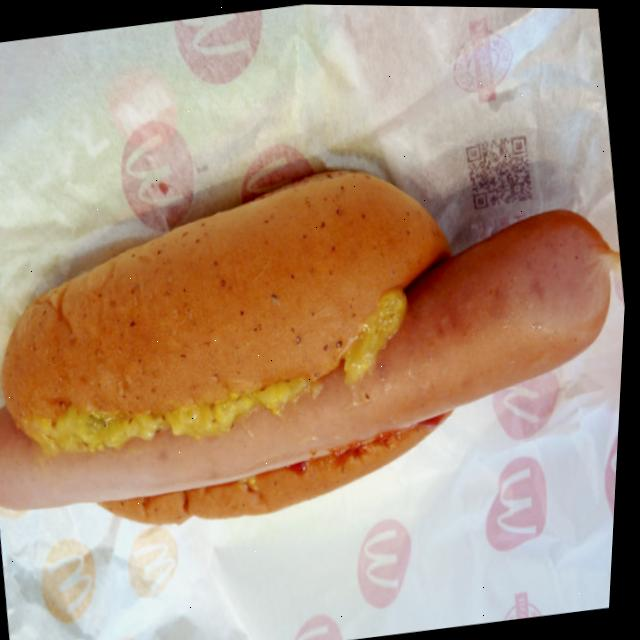汉堡快餐: (0, 113, 635, 567)
